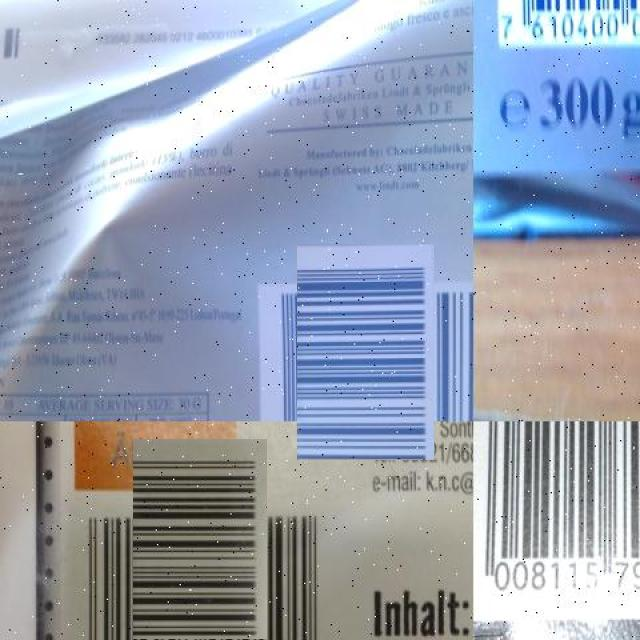Barcode: (99, 472, 300, 640), (277, 263, 454, 441), (473, 421, 640, 600)
